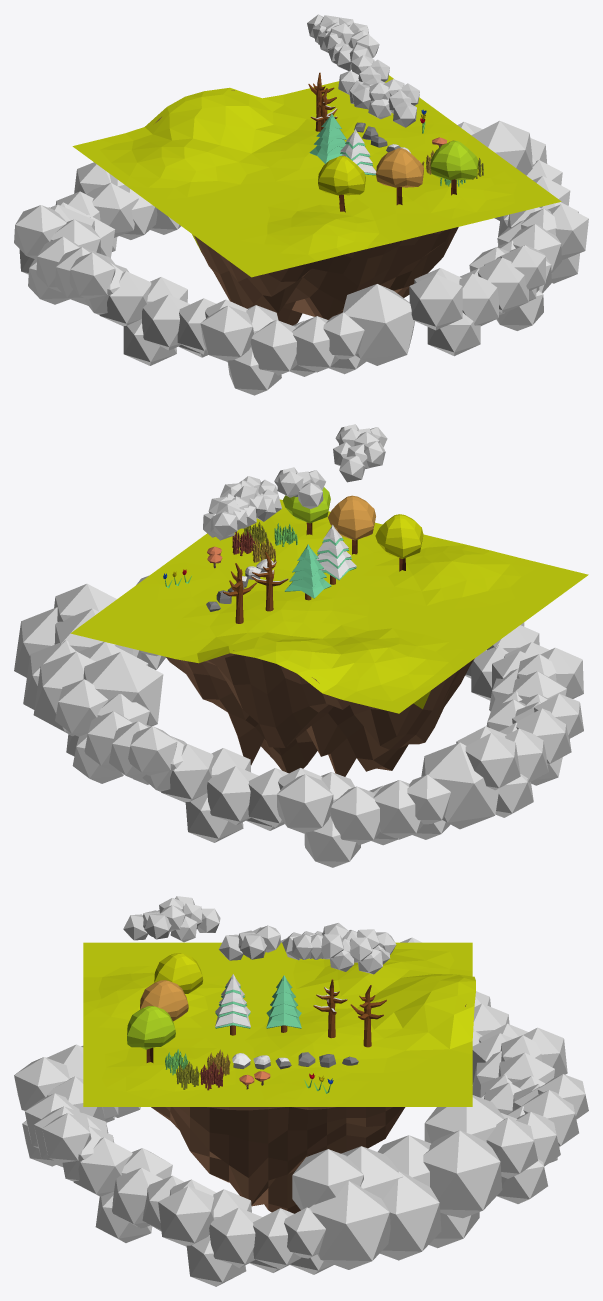
The model's file is low_poly_nature_pack.fbx.
3 views of the same model, one above another, from view 1: azimuth 30°, elevation 25°; view 2: azimuth 150°, elevation 25°; view 3: azimuth 270°, elevation 25° (orthographic). The views are drawn at different scales.
Visible parts, largest first — view 1: Landscape, Icosphere.039, cloud 3, cloud 1, normal tree dry, normal yellow ish, normal tree green, cloud 2, cone tree without snow, cone tree with snow; view 2: Landscape, Icosphere.039, cloud 3, cloud 1, normal yellow ish, normal tree dry, cloud 2, cone tree without snow, cone tree with snow, normal tree green, dead tree with snow, dead tree withotu snow; view 3: Landscape, Icosphere.039, cloud 3, cloud 1, normal tree green, cloud 2, normal yellow ish, cone tree with snow, normal tree dry, cone tree without snow, dead tree withotu snow, dead tree with snow.
Part boxes in pixels (box(x1,y1,x2,y2)): Landscape: box(72, 75, 561, 325); Icosphere.039: box(14, 120, 588, 395); cloud 3: box(307, 14, 379, 70); cloud 1: box(349, 79, 419, 127); normal tree dry: box(376, 148, 423, 204); normal yellow ish: box(318, 156, 365, 212); normal tree green: box(430, 140, 478, 195); cloud 2: box(338, 55, 389, 94); cone tree without snow: box(309, 113, 346, 163); cone tree with snow: box(340, 129, 376, 175); Landscape: box(70, 499, 588, 776); Icosphere.039: box(14, 575, 583, 867); cloud 3: box(203, 476, 281, 540); cloud 1: box(333, 424, 387, 482); normal yellow ish: box(375, 514, 423, 571); normal tree dry: box(328, 495, 375, 554); cloud 2: box(274, 467, 325, 508); cone tree without snow: box(284, 544, 331, 600); cone tree with snow: box(316, 524, 356, 584); normal tree green: box(282, 487, 330, 534); dead tree with snow: box(251, 552, 288, 611); dead tree withotu snow: box(223, 563, 256, 623); Landscape: box(83, 942, 475, 1213); Icosphere.039: box(14, 937, 588, 1286); cloud 3: box(282, 923, 396, 974); cloud 1: box(123, 896, 220, 942); normal tree green: box(127, 1006, 175, 1062); cloud 2: box(219, 925, 280, 960); normal yellow ish: box(154, 953, 203, 993); cone tree with snow: box(215, 974, 250, 1035); normal tree dry: box(140, 980, 188, 1021); cone tree without snow: box(266, 975, 301, 1032); dead tree withotu snow: box(350, 985, 386, 1047); dead tree with snow: box(313, 979, 347, 1038).
Bounding box in the file's own units: 4171 × 2282 × 3814.
